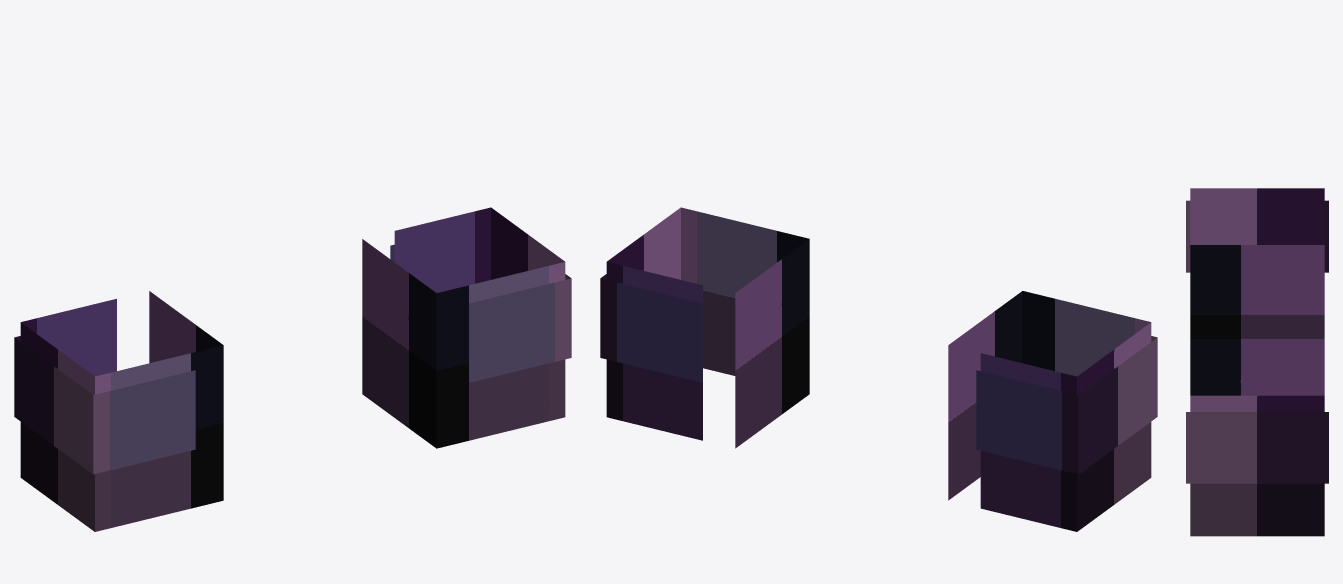
Rendered from sl_pride_bracelet.glb.
3 renders of one model, left to right at view 1: azimuth 30°, elevation 25°; view 2: azimuth 150°, elevation 25°; view 3: azimuth 270°, elevation 25°, orthographic. The views are drawn at different scales.
Parts seen in each view (by area): view 1: bb_pride_bracelet; view 2: bb_pride_bracelet; view 3: bb_pride_bracelet.
Part boxes in pixels (left/top/right/bottom): bb_pride_bracelet: left=14, top=207, right=571, bottom=531; bb_pride_bracelet: left=600, top=207, right=1157, bottom=531; bb_pride_bracelet: left=1186, top=188, right=1328, bottom=536.
Bounding box in the file's own units: 1.05 × 0.8 × 0.3.
Materials: 1 (1 with a texture image).
